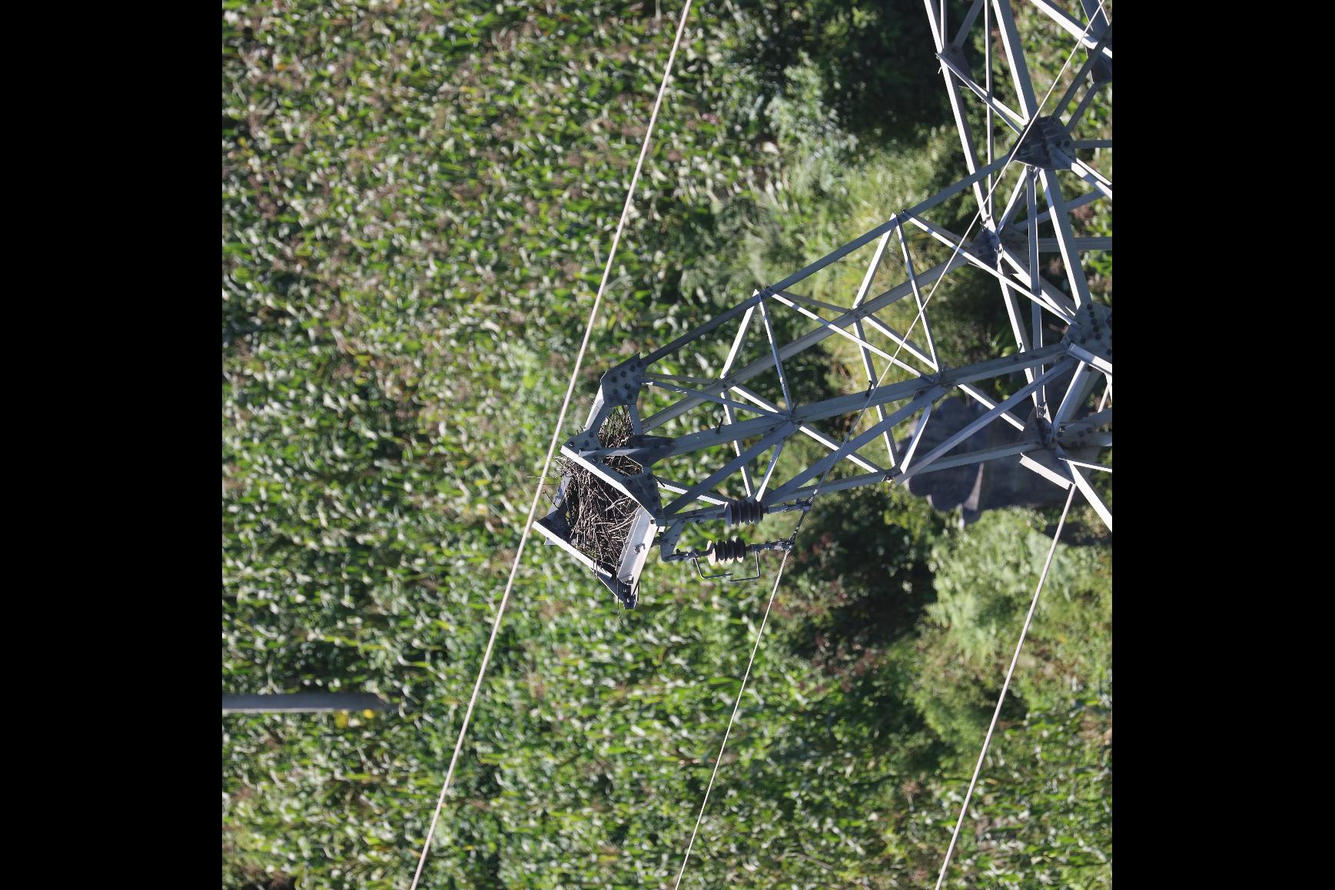nest: (553, 410, 638, 569)
